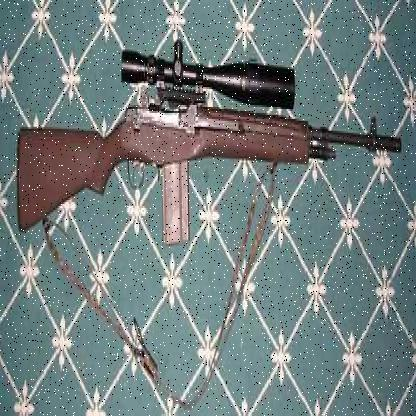rifle: (18, 30, 411, 293)
